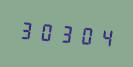four: (94, 22, 112, 50)
three: (18, 15, 36, 44), (56, 19, 74, 47)
zero: (75, 20, 93, 49), (37, 17, 55, 45)
